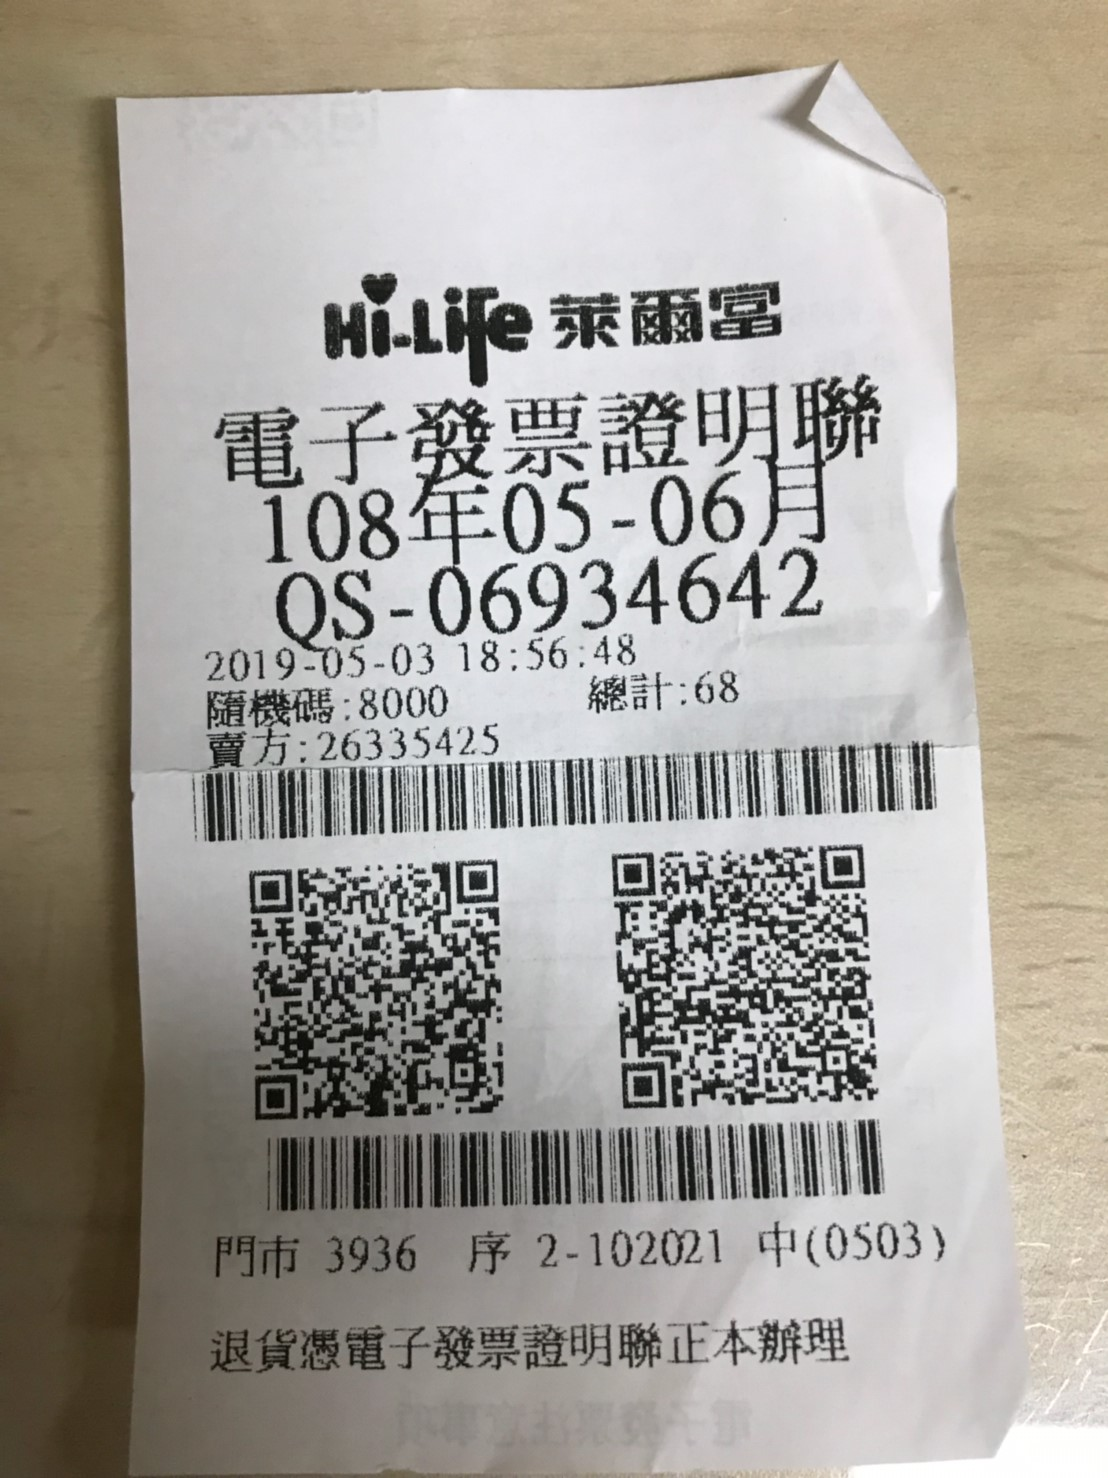Date_New: (260, 457, 829, 567)
Number_New: (428, 545, 823, 644)
